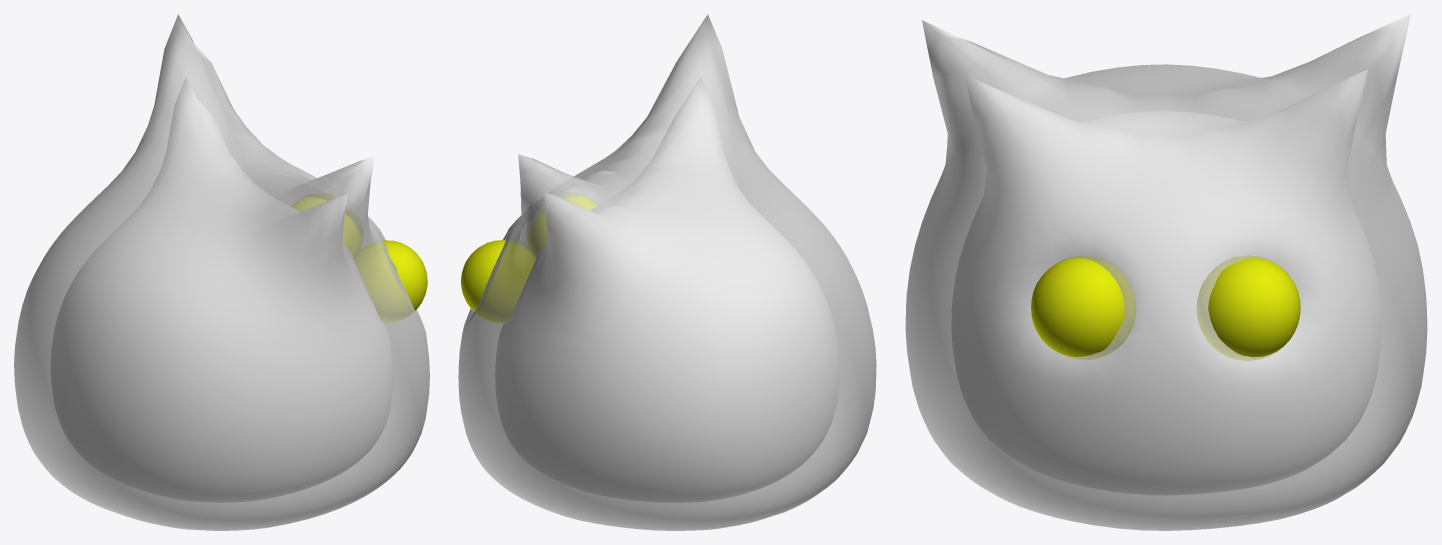
The model's file is Slime2.fbx.
3 views of the same model, side by side, from view 1: azimuth 30°, elevation 25°; view 2: azimuth 150°, elevation 25°; view 3: azimuth 270°, elevation 25° (orthographic). The views are drawn at different scales.
Parts seen in each view (by area): view 1: Cube.002, Cube.005; view 2: Cube.002, Cube.005; view 3: Cube.002, Cube.005.
Part boxes in pixels (left/top/right/bottom): Cube.002: left=14, top=14, right=429, bottom=530; Cube.005: left=51, top=77, right=393, bottom=502; Cube.002: left=458, top=14, right=876, bottom=530; Cube.005: left=495, top=77, right=839, bottom=502; Cube.002: left=905, top=14, right=1427, bottom=530; Cube.005: left=951, top=70, right=1381, bottom=495.
Size of the model in its own units: 168 by 166 by 169.
